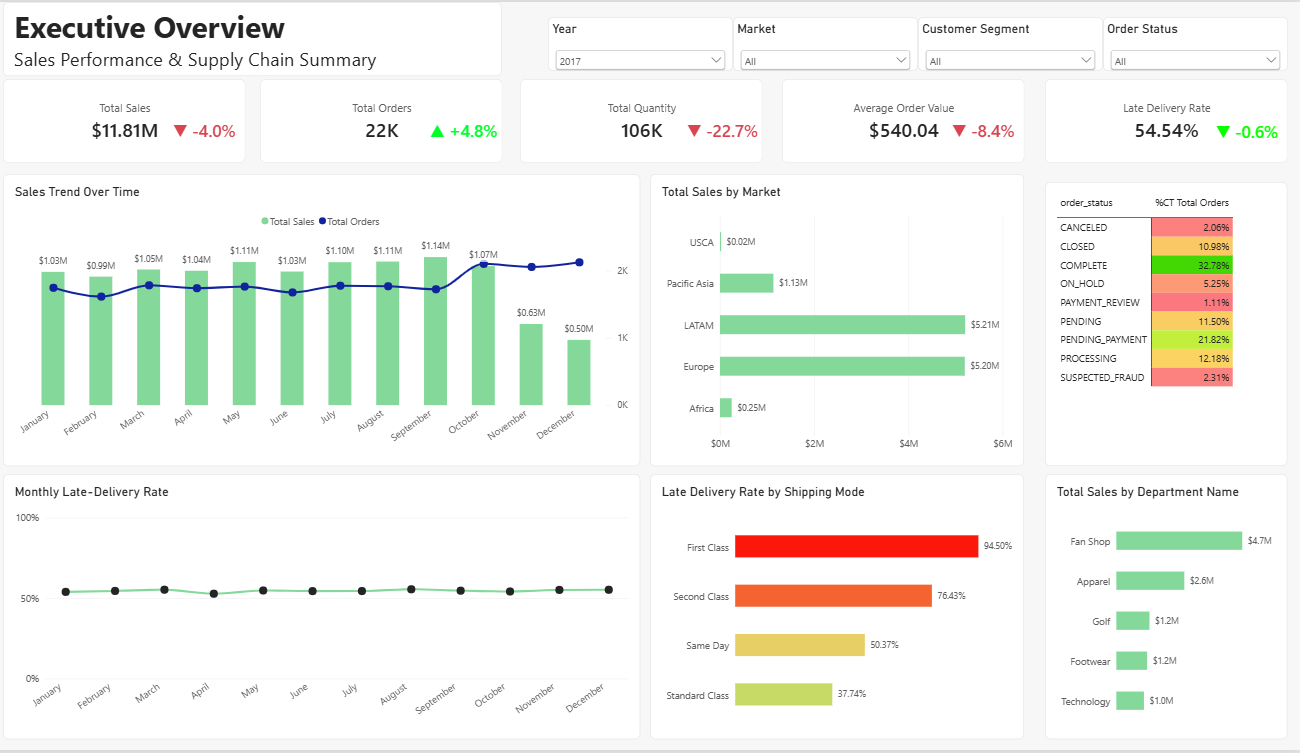

Layout of this report page (visuals, bound fields, positions):
{"tool":"powerbi","page":{"name":"Executive Overview","canvas":[1920,1080],"ordinal":1},"visuals":[{"type":"slicer","title":"Year","fields":{"Values":["dim_date.year","dim_date.month_name"]},"box":[835,21.7,266.7,78.3],"z":0},{"type":"slicer","title":"Market","fields":{"Values":["dim_category.category_name"]},"box":[1101.7,21.7,266.7,78.3],"z":1000},{"type":"slicer","title":"Customer Segment","fields":{"Values":["dim_department.department_name"]},"box":[1368.3,21.7,266.7,78.3],"z":2000},{"type":"slicer","title":"Order Status","fields":{"Values":["dim_product.product_name"]},"box":[1635,21.7,266.7,78.3],"z":3000},{"type":"cardVisual","fields":{"Data":["_measures.Total Sales"]},"box":[48.3,111.7,350,121.7],"z":4000,"group":"g1"},{"type":"lineClusteredColumnComboChart","title":"Sales Trend Over Time","fields":{"Y":["_measures.Total Sales"],"Y2":["_measures.Total Orders"],"Category":["dim_date.month_name"]},"box":[48.3,248.3,920,421.7],"z":4000},{"type":"cardVisual","fields":{"Data":["_measures.Total Orders"]},"box":[418.3,111.7,350,121.7],"z":5000,"group":"g2"},{"type":"clusteredBarChart","title":"Total Sales by Market","fields":{"Y":["_measures.Total Sales"],"Category":["dim_destination.market"]},"box":[981.7,248.3,540,421.7],"z":5000},{"type":"cardVisual","fields":{"Data":["_measures.Total Quantity"]},"box":[793.3,111.7,350,121.7],"z":6000,"group":"g6"},{"type":"pivotTable","title":"Total Orders by Order Status","fields":{"Values":["_measures.Total Orders"],"Rows":["dim_order_status.order_status"]},"box":[1551.7,260,350,410],"z":6000},{"type":"textbox","box":[48.3,0,720,106.7],"z":7000},{"type":"cardVisual","fields":{"Data":["_measures.Average Order Value"]},"box":[1171.7,111.7,350,121.7],"z":7000,"group":"g4"},{"type":"cardVisual","fields":{"Data":["_measures.Late Delivery Rate"]},"box":[1551.7,111.7,350,121.7],"z":8000,"group":"g5"},{"type":"lineChart","title":"Monthly Late-Delivery Rate","fields":{"Category":["dim_date.month_name"],"Y":["_measures.Late Delivery Rate"]},"box":[48.3,681.7,920,383.3],"z":8000},{"type":"clusteredBarChart","title":"Late Delivery Rate by Shipping Mode","fields":{"Category":["dim_shipping.shipping_mode"],"Y":["_measures.Late Delivery Rate"]},"box":[981.7,681.7,540,383.3],"z":9000},{"type":"clusteredBarChart","title":"Total Sales by Department Name","fields":{"Category":["dim_department.department_name"],"Y":["_measures.Total Sales"]},"box":[1552,682,350,383],"z":10000},{"type":"group","id":"g1","title":"Group 1","box":[48.3,111.7,351.3,121.7],"z":11000},{"type":"group","id":"g2","title":"Group 2","box":[418.3,111.7,350,121.7],"z":12000},{"type":"group","id":"g3","title":"Group 3","box":[793.3,111.7,350,121.7],"z":13000},{"type":"group","id":"g4","title":"Group 4","box":[1171.7,111.7,350,121.7],"z":14000},{"type":"group","id":"g5","title":"Group 5","box":[1551.7,111.7,350,121.7],"z":15000},{"type":"group","id":"g6","title":"Group 6","box":[793.3,111.7,350,121.7],"z":15001,"group":"g3"},{"type":"cardVisual","fields":{"Data":["_measures.YoY Growth & Sales Diff Check"]},"box":[293.3,155,106.2,60],"z":15001,"group":"g1"},{"type":"cardVisual","fields":{"Data":["_measures.Total Orders YoY Change"]},"box":[663.3,155,104.6,60.8],"z":15002,"group":"g2"},{"type":"cardVisual","fields":{"Data":["_measures.Total Quantity YoY Change"]},"box":[1035,155,108.3,60],"z":15003,"group":"g6"},{"type":"cardVisual","fields":{"Data":["_measures.Average Order Value YoY Change"]},"box":[1416.7,155,105,60],"z":15004,"group":"g4"},{"type":"cardVisual","fields":{"Data":["_measures.Late Delivery Rate YoY Change"]},"box":[1798.4,158.4,103.3,56.7],"z":15005,"group":"g5"}]}

Visuals, with their boxes in screenshot pixels (x1, y1, x2, y2), scaled from the page's 1920x1080 canvas onto the 1300x753 screenshot:
"Year" slicer: [x1=565, y1=15, x2=746, y2=70]
"Market" slicer: [x1=746, y1=15, x2=927, y2=70]
"Customer Segment" slicer: [x1=926, y1=15, x2=1107, y2=70]
"Order Status" slicer: [x1=1107, y1=15, x2=1288, y2=70]
cardVisual - _measures.Total Sales: [x1=33, y1=78, x2=270, y2=163]
"Sales Trend Over Time" lineClusteredColumnComboChart: [x1=33, y1=173, x2=656, y2=467]
cardVisual - _measures.Total Orders: [x1=283, y1=78, x2=520, y2=163]
"Total Sales by Market" clusteredBarChart: [x1=665, y1=173, x2=1030, y2=467]
cardVisual - _measures.Total Quantity: [x1=537, y1=78, x2=774, y2=163]
"Total Orders by Order Status" pivotTable: [x1=1051, y1=181, x2=1288, y2=467]
textbox: [x1=33, y1=0, x2=520, y2=74]
cardVisual - _measures.Average Order Value: [x1=793, y1=78, x2=1030, y2=163]
cardVisual - _measures.Late Delivery Rate: [x1=1051, y1=78, x2=1288, y2=163]
"Monthly Late-Delivery Rate" lineChart: [x1=33, y1=475, x2=656, y2=743]
"Late Delivery Rate by Shipping Mode" clusteredBarChart: [x1=665, y1=475, x2=1030, y2=743]
"Total Sales by Department Name" clusteredBarChart: [x1=1051, y1=476, x2=1288, y2=743]
"Group 1" group: [x1=33, y1=78, x2=271, y2=163]
"Group 2" group: [x1=283, y1=78, x2=520, y2=163]
"Group 3" group: [x1=537, y1=78, x2=774, y2=163]
"Group 4" group: [x1=793, y1=78, x2=1030, y2=163]
"Group 5" group: [x1=1051, y1=78, x2=1288, y2=163]
"Group 6" group: [x1=537, y1=78, x2=774, y2=163]
cardVisual - _measures.YoY Growth & Sales Diff Check: [x1=199, y1=108, x2=270, y2=150]
cardVisual - _measures.Total Orders YoY Change: [x1=449, y1=108, x2=520, y2=150]
cardVisual - _measures.Total Quantity YoY Change: [x1=701, y1=108, x2=774, y2=150]
cardVisual - _measures.Average Order Value YoY Change: [x1=959, y1=108, x2=1030, y2=150]
cardVisual - _measures.Late Delivery Rate YoY Change: [x1=1218, y1=110, x2=1288, y2=150]
